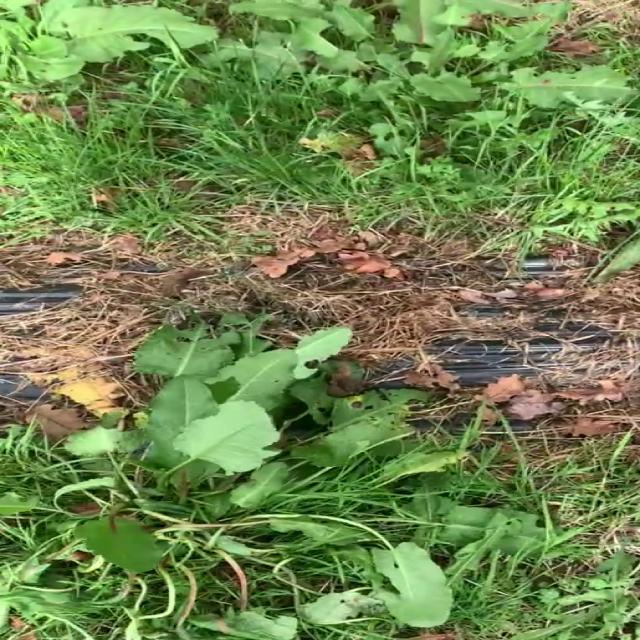organic waste: (0, 296, 554, 640), (197, 0, 640, 138), (0, 0, 250, 117)
